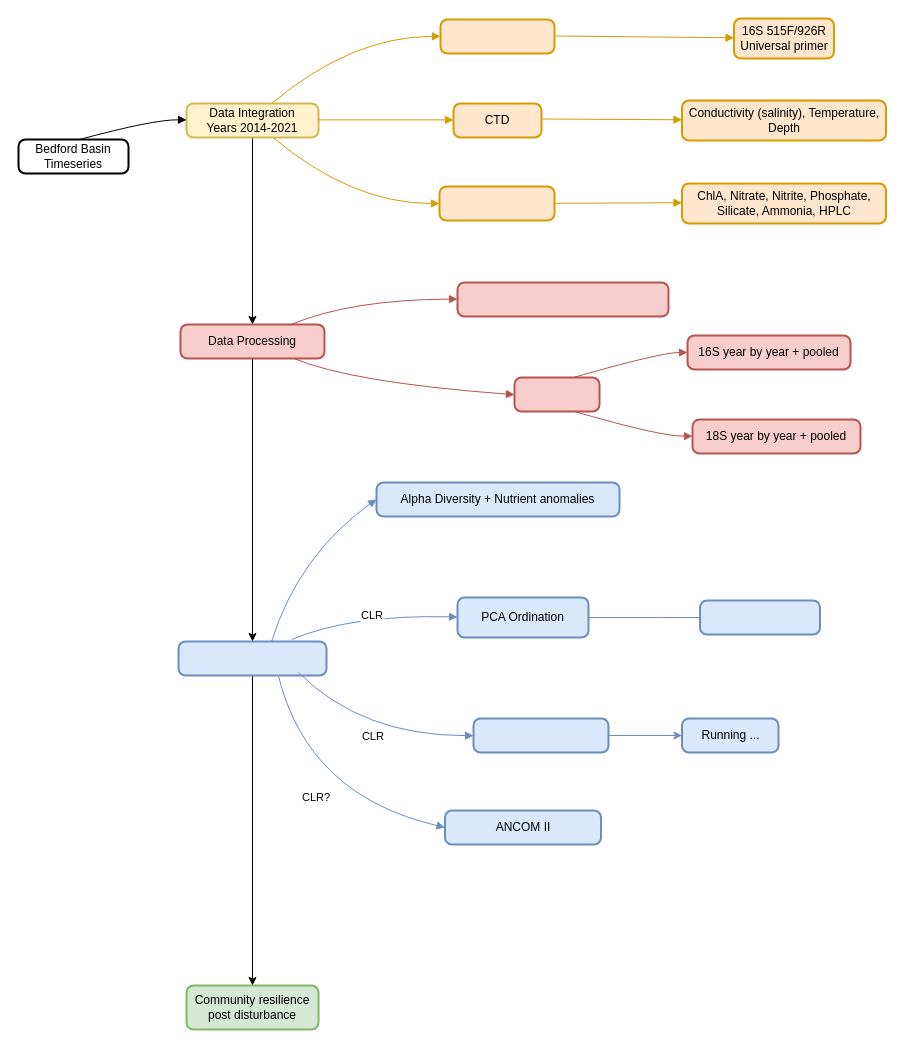
This 904x1047 diagram has some shape labels left out. Each missing label, with the centre of its shape:
"BBsplit" goes at pixel 556 394.
"Extraction/DNA" goes at pixel 497 36.
"Niskin Bottle" goes at pixel 496 203.
"PERMANOVA" goes at pixel 759 617.
"Redundancy analysis" goes at pixel 540 735.
"Statistical Analysis" goes at pixel 252 658.
"Year by year in QIIME2 + pooled" goes at pixel 562 299.
